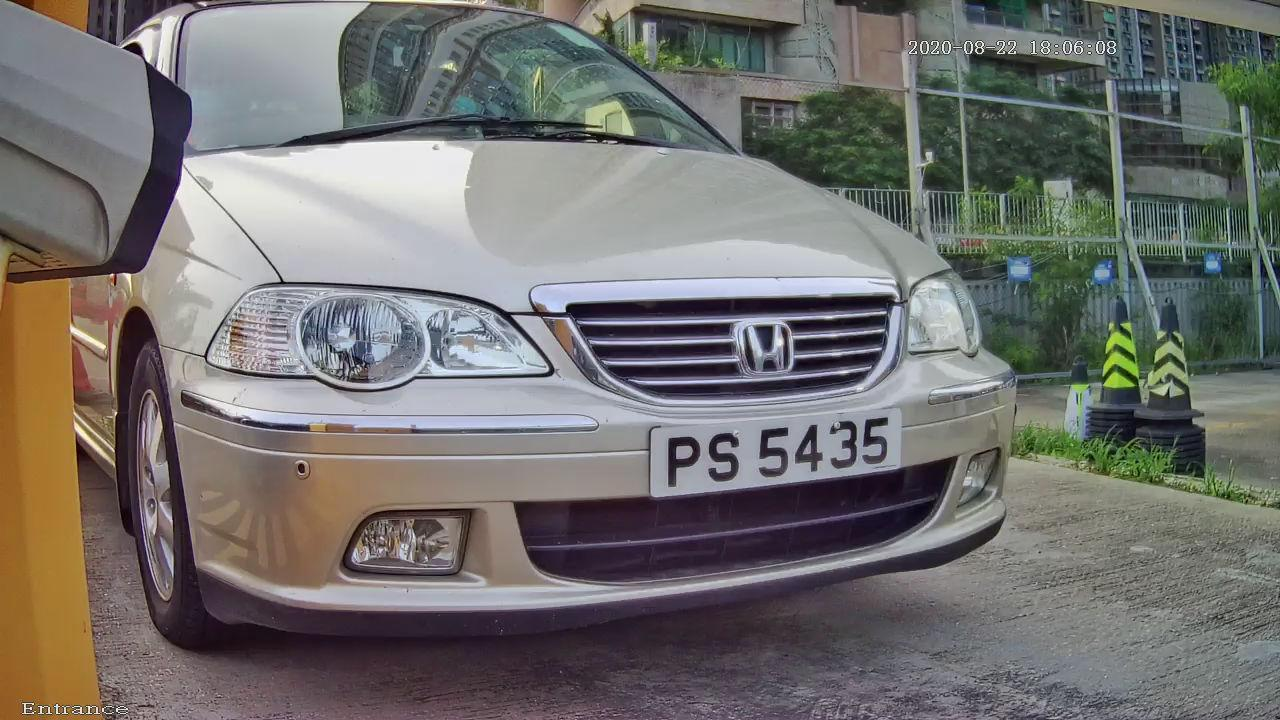Car: (29, 20, 1115, 666)
License Plate: (592, 355, 956, 550)
